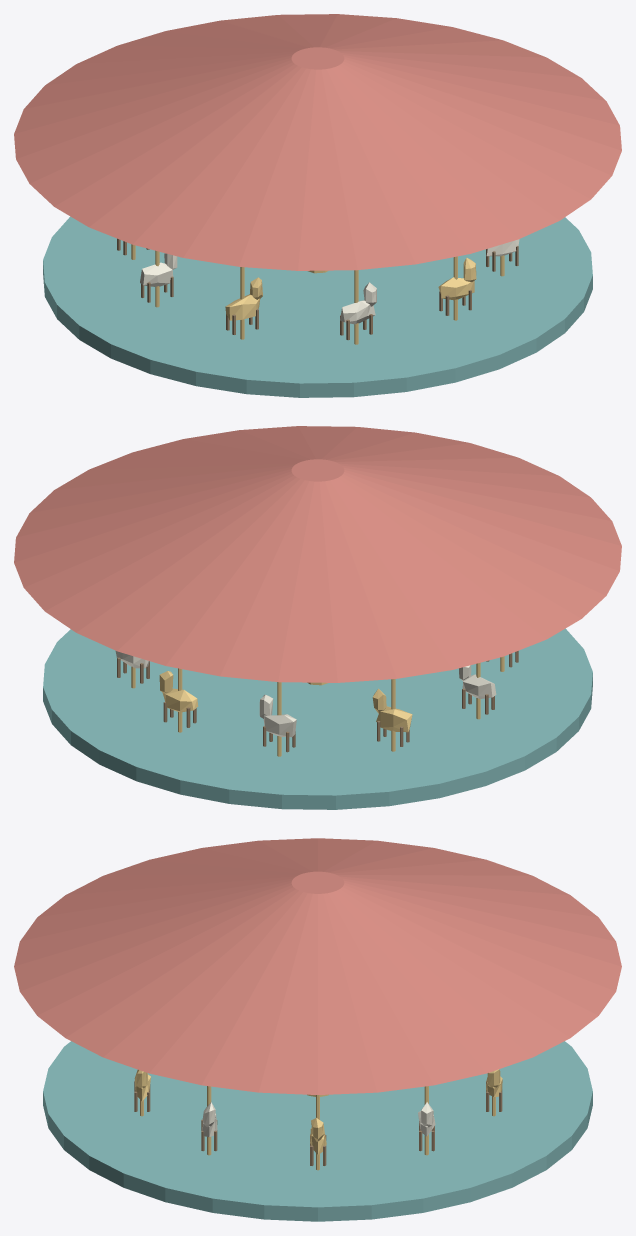
3 views of the same model, one above another, from view 1: azimuth 30°, elevation 25°; view 2: azimuth 150°, elevation 25°; view 3: azimuth 270°, elevation 25° (orthographic).
Bounding box in the file's own units: 23 × 9.3 × 23.
